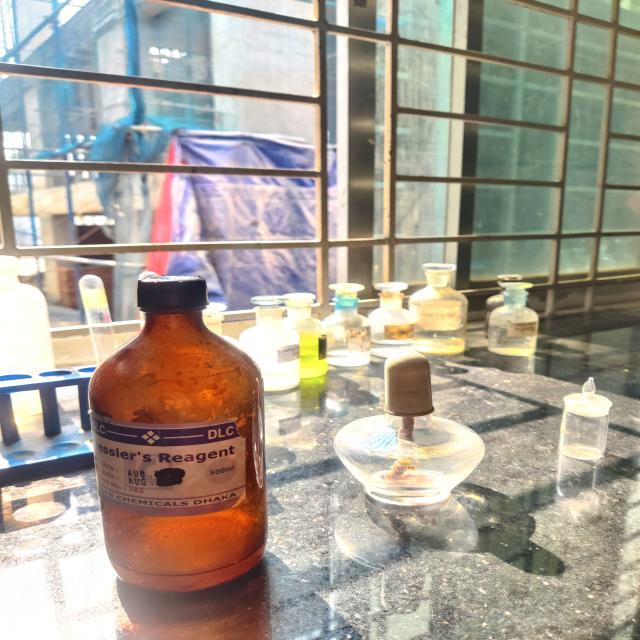Nessler_Reagent_Bottle: (77, 258, 292, 612)
Spirit_Lamp: (316, 334, 510, 530)
Weighing_Bottle: (542, 366, 629, 482)
